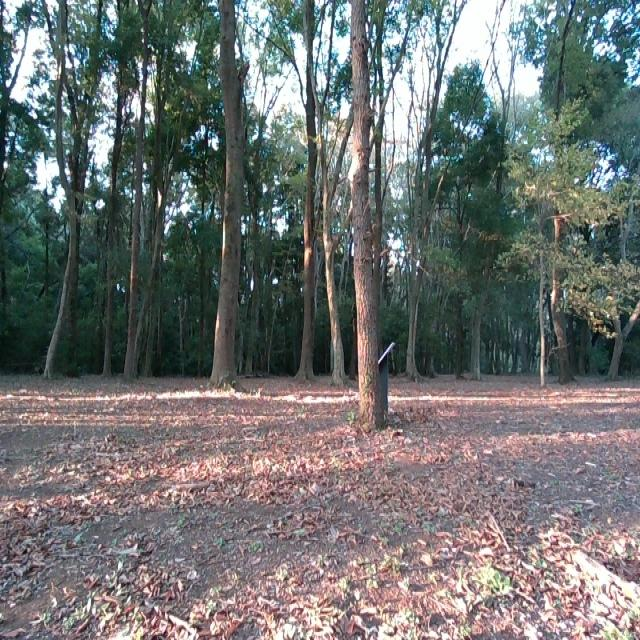tree: (348, 0, 392, 429), (46, 0, 83, 373), (124, 17, 154, 374), (216, 2, 243, 392), (298, 0, 318, 379), (319, 76, 343, 386), (555, 67, 571, 382)
